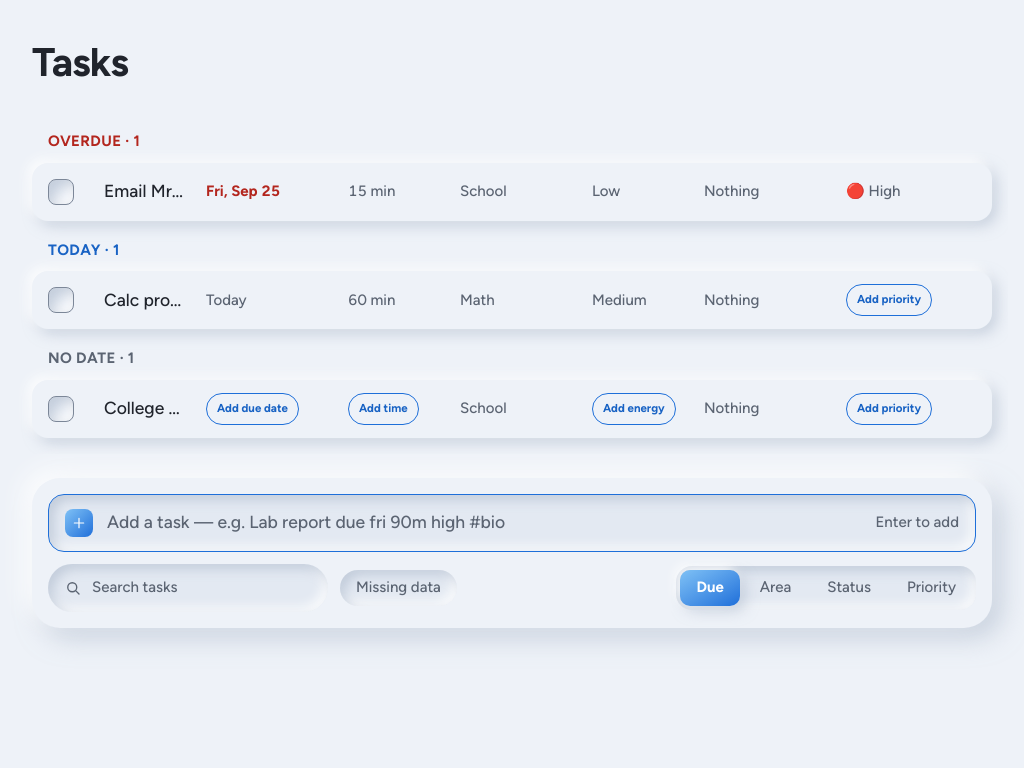
TasksPage › Priority edits with a select fed from the live Notion options, and writes through the field route
This screenshot has width=1024, height=768.
Check: the text "Calc problem set 4" is shown, box top-left (104, 287), bottom-right (186, 313)
Click the button with aria-label "Priority for Calc problem set 4". click: (911, 300)
box: top-left (838, 280), bottom-right (984, 320)
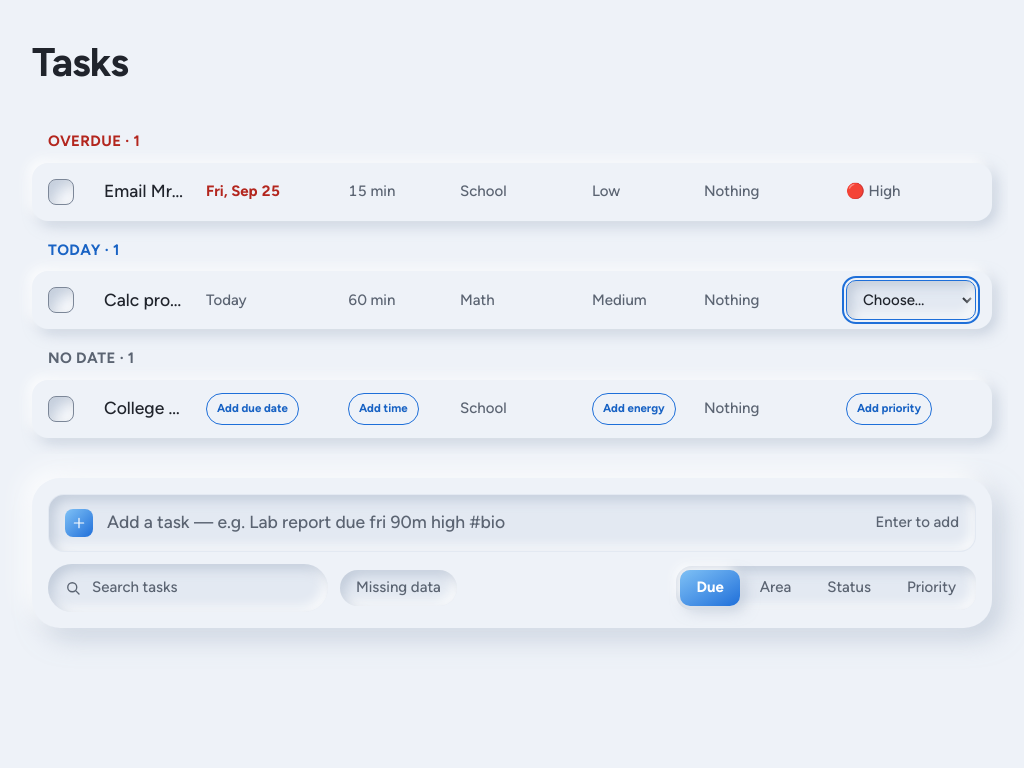
Select "🟡 Medium" in the dropdown named "Priority for Calc problem set 4". click: (911, 300)
box: top-left (846, 280), bottom-right (976, 320)
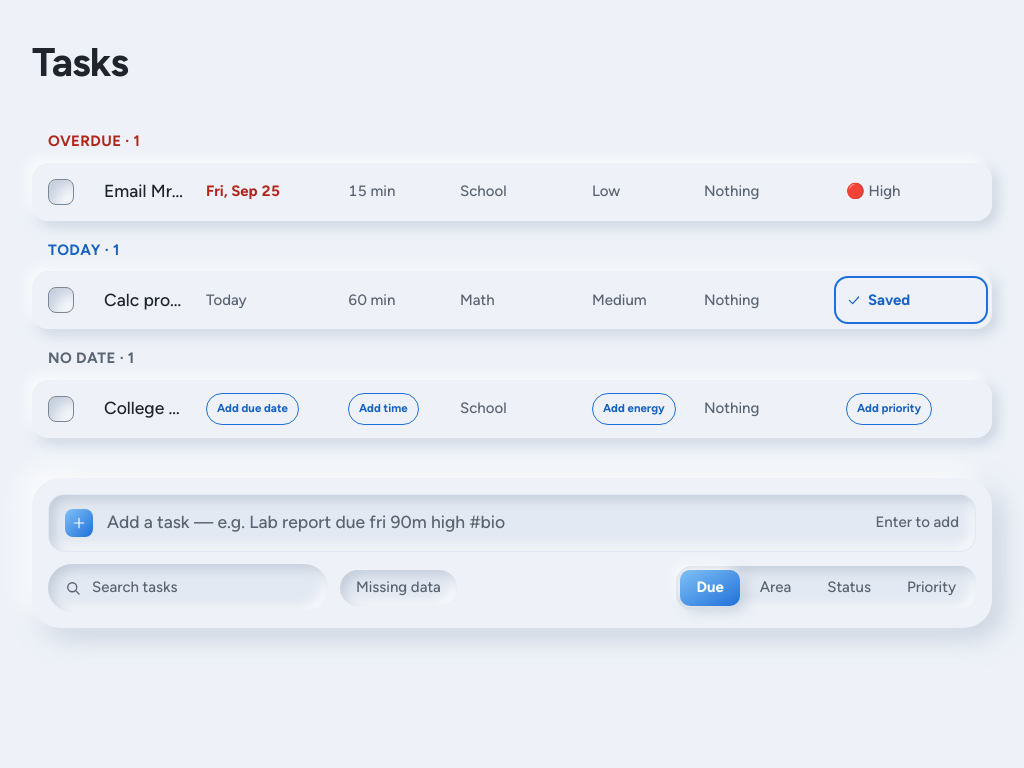
Check: the text "🟡 Medium" is shown, box top-left (846, 289), bottom-right (910, 311)
